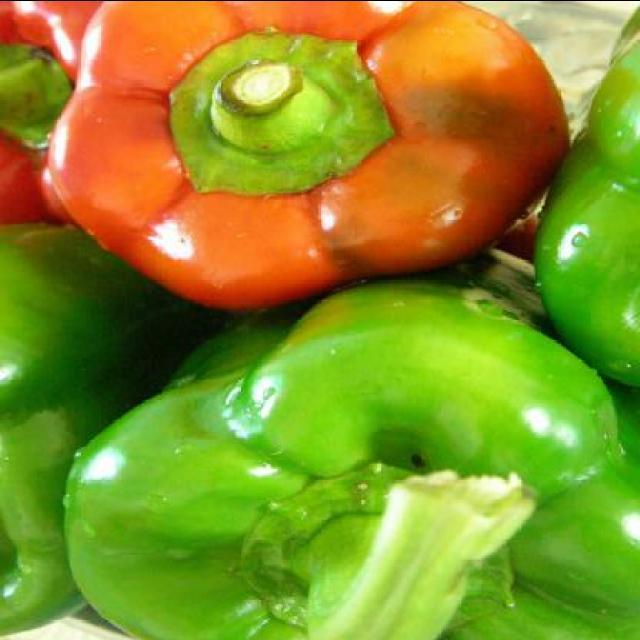Bell pepper: (0, 2, 638, 639)
